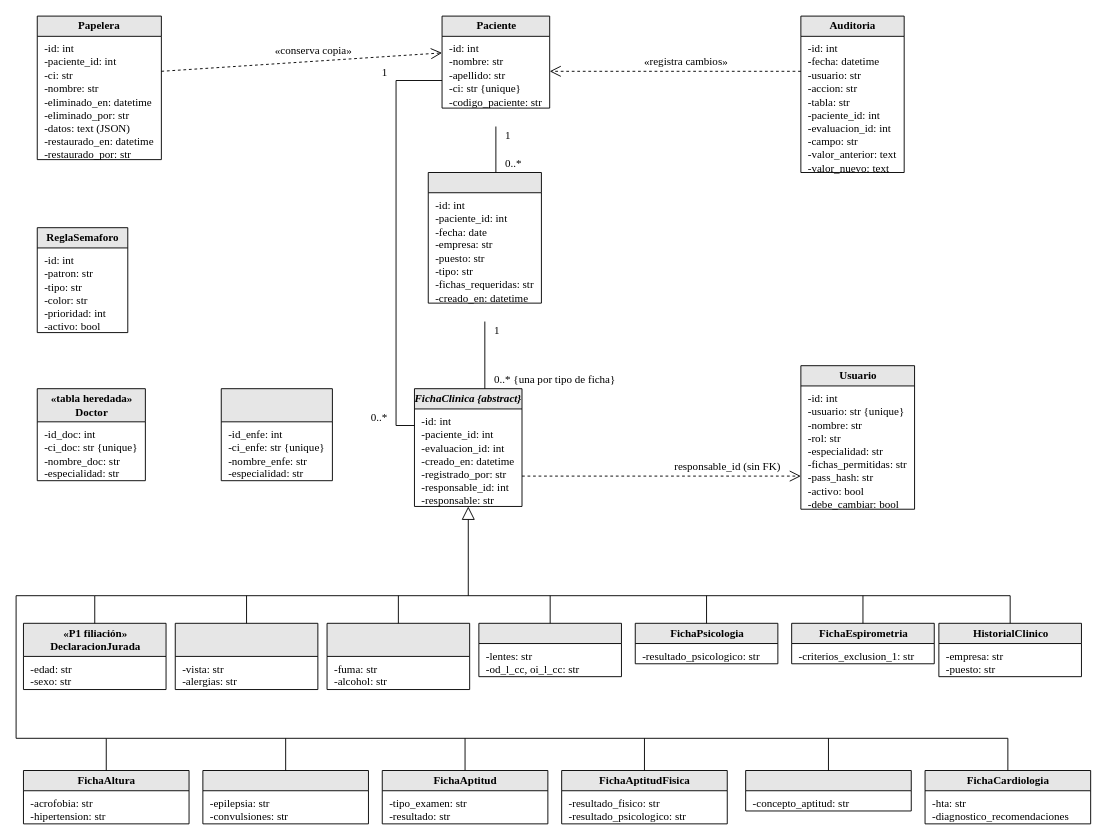
The diagram is 1107 pixels wide and 840 high, and some of its shapes have lost their labels. Each missing label, with the box of its shape:
Evaluacion: (427, 172, 541, 303)
FichaElectroencefalograma: (202, 770, 368, 824)
FichaOftalmologica: (478, 622, 621, 677)
FichaOsteomuscular: (745, 770, 911, 811)
«P2 antecedentes» AntecedentesP2: (174, 622, 318, 690)
«P3 hábitos» HabitosRiesgosP3: (326, 622, 470, 690)
«tabla heredada» Enfermera: (220, 388, 332, 481)
